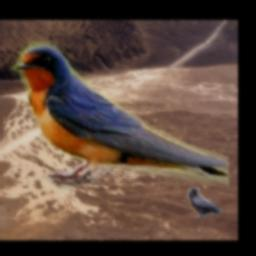Crow: (187, 188, 221, 220)
Swallow: (10, 40, 230, 193)
